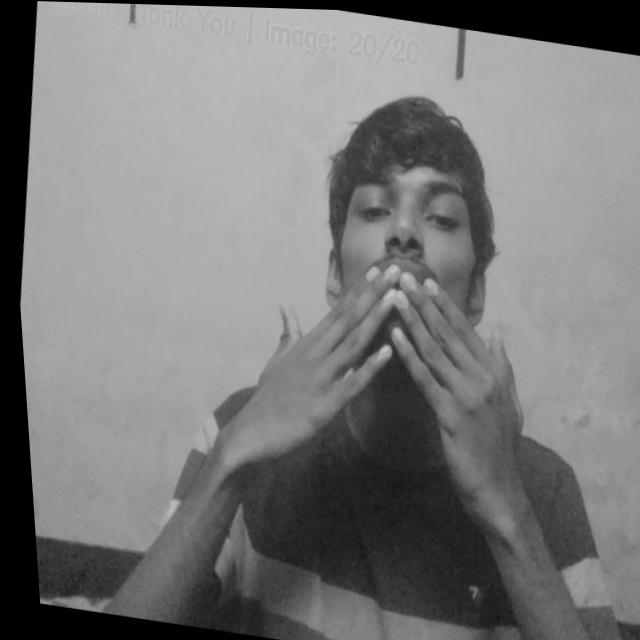Thank You: (239, 239, 542, 493)
